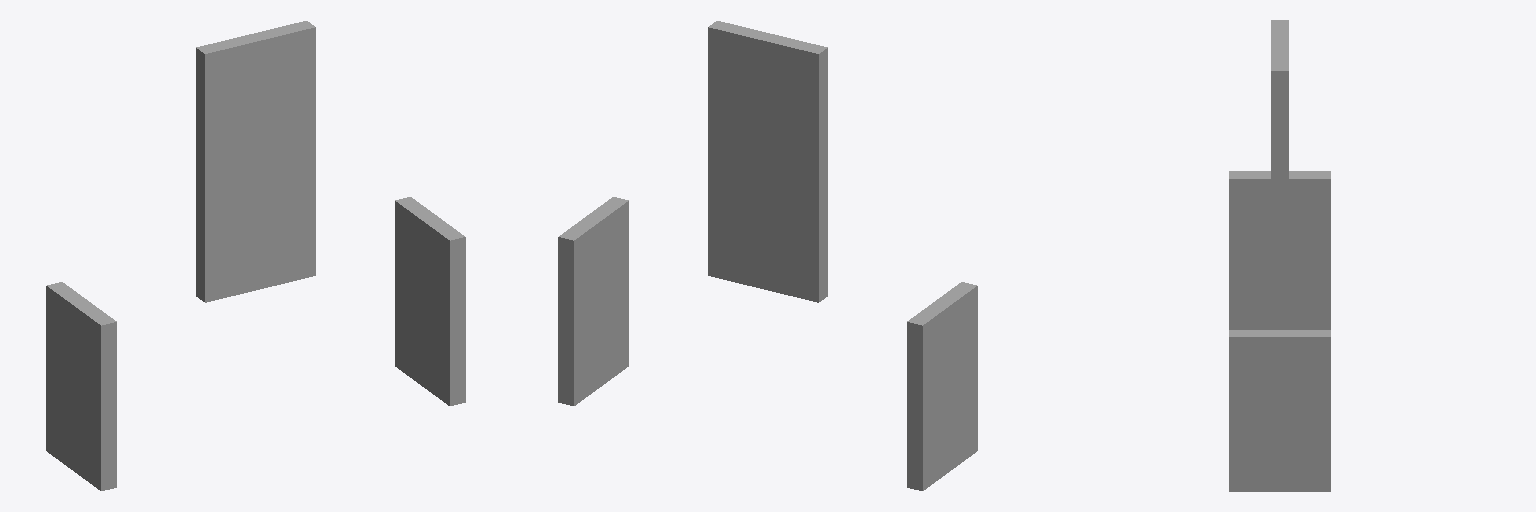
The robot description file, URDF, robot "generic_bot_minimal":
<?xml version='1.0' encoding='utf-8'?>
<robot name="generic_bot_minimal">
  <link name="base_motor_link">
    <visual>
      <origin xyz="0.000000 0.000000 0.000000" rpy="0.000000 0.000000 0.000000" />
      <geometry>
        <mesh filename="[local-path]/T7_UBUNTU_ONLY/Codesign_ChopstickBot_all_files/reference/xm430_motor/good_conversion_stl/XL-430_new_coordinate_on_axis.STL" scale="0.001000 0.001000 0.001000" />
        </geometry>
      <material name="motor_mat">
        <color rgba="0.89804 0.91765 0.92941 1.0" />
        </material>
      </visual>
    <collision>
      <origin xyz="0.000000 -0.012000 0.000000" rpy="0.000000 0.000000 0.000000" />
      <geometry>
        <box size="0.028500 0.046500 0.034000" />
        </geometry>
      </collision>
    <inertial>
      <origin xyz="0.000000 -0.012000 0.000000" rpy="0.000000 0.000000 0.000000" />
      <mass value="0.065000" />
      <inertia ixx="0.000017973854" ixy="0" ixz="0" iyy="0.000010661354" iyz="0" izz="0.000016111875" />
      </inertial>
    </link>
  <link name="l_leg_motor">
    <visual>
      <origin xyz="0.000000 0.000000 0.000000" rpy="0.000000 0.000000 0.000000" />
      <geometry>
        <mesh filename="[local-path]/T7_UBUNTU_ONLY/Codesign_ChopstickBot_all_files/reference/xm430_motor/good_conversion_stl/XL-430_new_coordinate_on_axis.STL" scale="0.001000 0.001000 0.001000" />
        </geometry>
      <material name="motor_mat">
        <color rgba="0.89804 0.91765 0.92941 1.0" />
        </material>
      </visual>
    <collision>
      <origin xyz="0.000000 -0.012000 0.000000" rpy="0.000000 0.000000 0.000000" />
      <geometry>
        <box size="0.028500 0.046500 0.034000" />
        </geometry>
      </collision>
    <inertial>
      <origin xyz="0.000000 -0.012000 0.000000" rpy="0.000000 0.000000 0.000000" />
      <mass value="0.065000" />
      <inertia ixx="0.000017973854" ixy="0" ixz="0" iyy="0.000010661354" iyz="0" izz="0.000016111875" />
      </inertial>
    </link>
  <link name="l_leg_motor_out">
    <inertial>
      <origin xyz="0.000000 0.000000 0.000000" rpy="0.000000 0.000000 0.000000" />
      <mass value="0.001000" />
      <inertia ixx="0.000000016667" ixy="0" ixz="0" iyy="0.000000016667" iyz="0" izz="0.000000016667" />
      </inertial>
    </link>
  <joint name="l_leg_motor_mount_fixed" type="fixed">
    <origin xyz="-0.050000 0.000000 0.000000" rpy="0.000000 -1.570796 0.000000" />
    <parent link="base_motor_link" />
    <child link="l_leg_motor" />
    </joint>
  <joint name="l_leg_motor_joint" type="revolute">
    <origin xyz="0.000000 0.000000 0.000000" rpy="0.000000 0.000000 0.000000" />
    <parent link="l_leg_motor" />
    <child link="l_leg_motor_out" />
    <axis xyz="0.000000 0.000000 1.000000" />
    <limit lower="-3.14159" upper="3.14159" effort="5.0" velocity="8.0" />
    </joint>
  <link name="l_end_effector">
    <visual>
      <origin xyz="0.000000 0.000000 0.000000" rpy="0.000000 0.000000 0.000000" />
      <geometry>
        <box size="0.100000 0.060000 0.010000" />
        </geometry>
      <material name="box_mat">
        <color rgba="0.7 0.7 0.7 1.0" />
        </material>
      </visual>
    <collision>
      <origin xyz="0.000000 0.000000 0.000000" rpy="0.000000 0.000000 0.000000" />
      <geometry>
        <box size="0.100000 0.060000 0.010000" />
        </geometry>
      </collision>
    <inertial>
      <origin xyz="0.000000 0.000000 0.000000" rpy="0.000000 0.000000 0.000000" />
      <mass value="0.050000" />
      <inertia ixx="0.000015416667" ixy="0" ixz="0" iyy="0.000042083333" iyz="0" izz="0.000056666667" />
      </inertial>
    </link>
  <joint name="l_end_effector_fixed" type="fixed">
    <origin xyz="0.000000 0.000000 0.060000" rpy="0.000000 0.000000 0.000000" />
    <parent link="l_leg_motor_out" />
    <child link="l_end_effector" />
    </joint>
  <link name="r_leg_motor">
    <visual>
      <origin xyz="0.000000 0.000000 0.000000" rpy="0.000000 0.000000 0.000000" />
      <geometry>
        <mesh filename="[local-path]/T7_UBUNTU_ONLY/Codesign_ChopstickBot_all_files/reference/xm430_motor/good_conversion_stl/XL-430_new_coordinate_on_axis.STL" scale="0.001000 0.001000 0.001000" />
        </geometry>
      <material name="motor_mat">
        <color rgba="0.89804 0.91765 0.92941 1.0" />
        </material>
      </visual>
    <collision>
      <origin xyz="0.000000 -0.012000 0.000000" rpy="0.000000 0.000000 0.000000" />
      <geometry>
        <box size="0.028500 0.046500 0.034000" />
        </geometry>
      </collision>
    <inertial>
      <origin xyz="0.000000 -0.012000 0.000000" rpy="0.000000 0.000000 0.000000" />
      <mass value="0.065000" />
      <inertia ixx="0.000017973854" ixy="0" ixz="0" iyy="0.000010661354" iyz="0" izz="0.000016111875" />
      </inertial>
    </link>
  <link name="r_leg_motor_out">
    <inertial>
      <origin xyz="0.000000 0.000000 0.000000" rpy="0.000000 0.000000 0.000000" />
      <mass value="0.001000" />
      <inertia ixx="0.000000016667" ixy="0" ixz="0" iyy="0.000000016667" iyz="0" izz="0.000000016667" />
      </inertial>
    </link>
  <joint name="r_leg_motor_mount_fixed" type="fixed">
    <origin xyz="0.050000 0.000000 0.000000" rpy="0.000000 1.570796 -0.000000" />
    <parent link="base_motor_link" />
    <child link="r_leg_motor" />
    </joint>
  <joint name="r_leg_motor_joint" type="revolute">
    <origin xyz="0.000000 0.000000 0.000000" rpy="0.000000 0.000000 0.000000" />
    <parent link="r_leg_motor" />
    <child link="r_leg_motor_out" />
    <axis xyz="0.000000 0.000000 1.000000" />
    <limit lower="-3.14159" upper="3.14159" effort="5.0" velocity="8.0" />
    </joint>
  <link name="r_end_effector">
    <visual>
      <origin xyz="0.000000 0.000000 0.000000" rpy="0.000000 0.000000 0.000000" />
      <geometry>
        <box size="0.100000 0.060000 0.010000" />
        </geometry>
      <material name="box_mat">
        <color rgba="0.7 0.7 0.7 1.0" />
        </material>
      </visual>
    <collision>
      <origin xyz="0.000000 0.000000 0.000000" rpy="0.000000 0.000000 0.000000" />
      <geometry>
        <box size="0.100000 0.060000 0.010000" />
        </geometry>
      </collision>
    <inertial>
      <origin xyz="0.000000 0.000000 0.000000" rpy="0.000000 0.000000 0.000000" />
      <mass value="0.050000" />
      <inertia ixx="0.000015416667" ixy="0" ixz="0" iyy="0.000042083333" iyz="0" izz="0.000056666667" />
      </inertial>
    </link>
  <joint name="r_end_effector_fixed" type="fixed">
    <origin xyz="-0.000000 0.000000 0.060000" rpy="0.000000 -0.000000 0.000000" />
    <parent link="r_leg_motor_out" />
    <child link="r_end_effector" />
    </joint>
  <link name="trunk_link">
    <visual>
      <origin xyz="0.000000 0.000000 0.000000" rpy="0.000000 0.000000 0.000000" />
      <geometry>
        <box size="0.070000 0.010000 0.150000" />
        </geometry>
      <material name="box_mat">
        <color rgba="0.7 0.7 0.7 1.0" />
        </material>
      </visual>
    <collision>
      <origin xyz="0.000000 0.000000 0.000000" rpy="0.000000 0.000000 0.000000" />
      <geometry>
        <box size="0.070000 0.010000 0.150000" />
        </geometry>
      </collision>
    <inertial>
      <origin xyz="0.000000 0.000000 0.000000" rpy="0.000000 0.000000 0.000000" />
      <mass value="0.300000" />
      <inertia ixx="0.000565000000" ixy="0" ixz="0" iyy="0.000685000000" iyz="0" izz="0.000125000000" />
      </inertial>
    </link>
  <joint name="base_to_trunk" type="revolute">
    <origin xyz="0.000000 0.000000 0.110000" rpy="0.000000 0.000000 0.000000" />
    <parent link="base_motor_link" />
    <child link="trunk_link" />
    <axis xyz="0.000000 0.000000 1.000000" />
    <limit lower="-3.14159" upper="3.14159" effort="5.0" velocity="8.0" />
    </joint>
  </robot>

--- What the picture shows (computed from the rendered views, not written in the file) ---
3 views of the same robot in one strip: view 1: azimuth 30°, elevation 25°; view 2: azimuth 150°, elevation 25°; view 3: azimuth 270°, elevation 25° (orthographic).
Robot: generic_bot_minimal — 8 links, 7 joints (3 revolute, 4 fixed); root link base_motor_link; default pose: all joints at 0.
Links seen in each view (by area): view 1: trunk_link, r_end_effector, l_end_effector; view 2: trunk_link, r_end_effector, l_end_effector; view 3: r_end_effector, l_end_effector, trunk_link.
Link boxes in pixels (x1,y1,x2,y2): trunk_link: [196, 21, 315, 302]; r_end_effector: [395, 197, 465, 405]; l_end_effector: [46, 282, 116, 490]; trunk_link: [708, 21, 827, 302]; r_end_effector: [558, 197, 628, 405]; l_end_effector: [907, 282, 977, 490]; r_end_effector: [1229, 330, 1330, 491]; l_end_effector: [1229, 171, 1330, 329]; trunk_link: [1271, 20, 1288, 302].
Size in the robot's own frame: 0.23 by 0.06 by 0.235 metres.
Geometry: only primitive shapes (box / cylinder / sphere) drawn; not drawn: 3 mesh visuals (reference in a form the renderer does not follow).